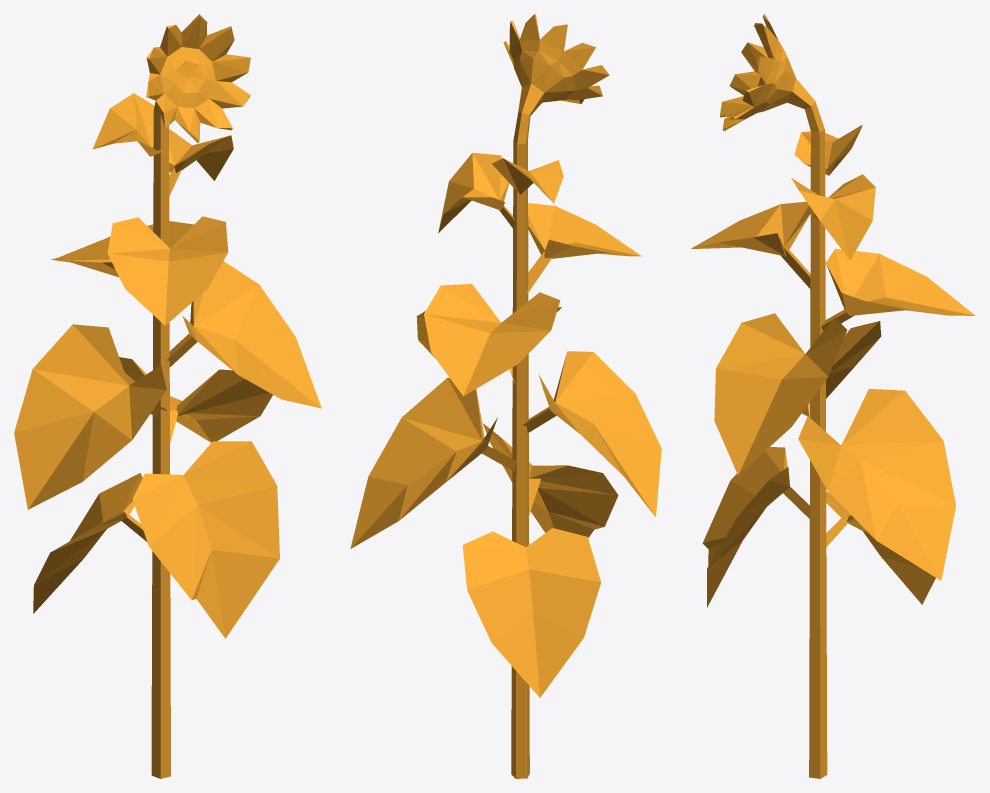
The model's file is SM_Sunflower_Plant_Flowering.fbx.
The picture shows the model from 3 angles, left to right: view 1: azimuth 30°, elevation 25°; view 2: azimuth 150°, elevation 25°; view 3: azimuth 270°, elevation 25°; orthographic projection. The views are drawn at different scales.
Visible parts, largest first — view 1: sunflower-plant-flowering; view 2: sunflower-plant-flowering; view 3: sunflower-plant-flowering.
Part boxes in pixels (<box>): sunflower-plant-flowering: <box>14,14,321,778</box>; sunflower-plant-flowering: <box>350,14,661,778</box>; sunflower-plant-flowering: <box>691,14,975,778</box>.
Bounding box in the file's own units: 0.6806 × 1.89 × 0.6496.
